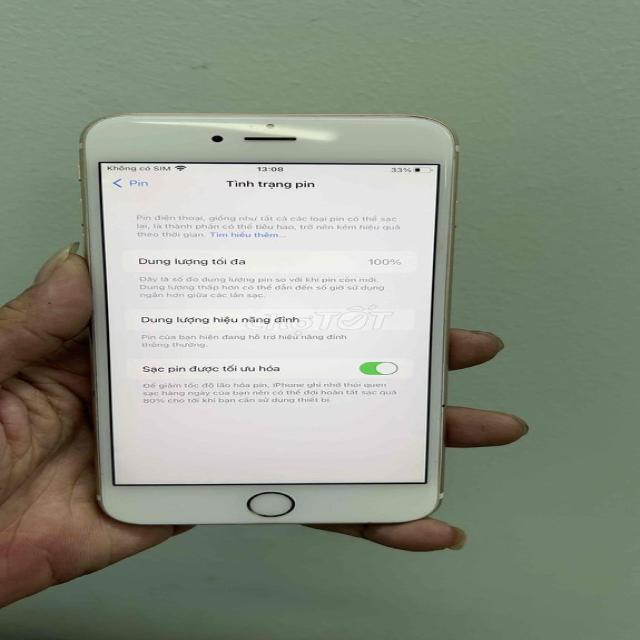gen_6: (80, 114, 457, 524), (122, 248, 416, 273)
